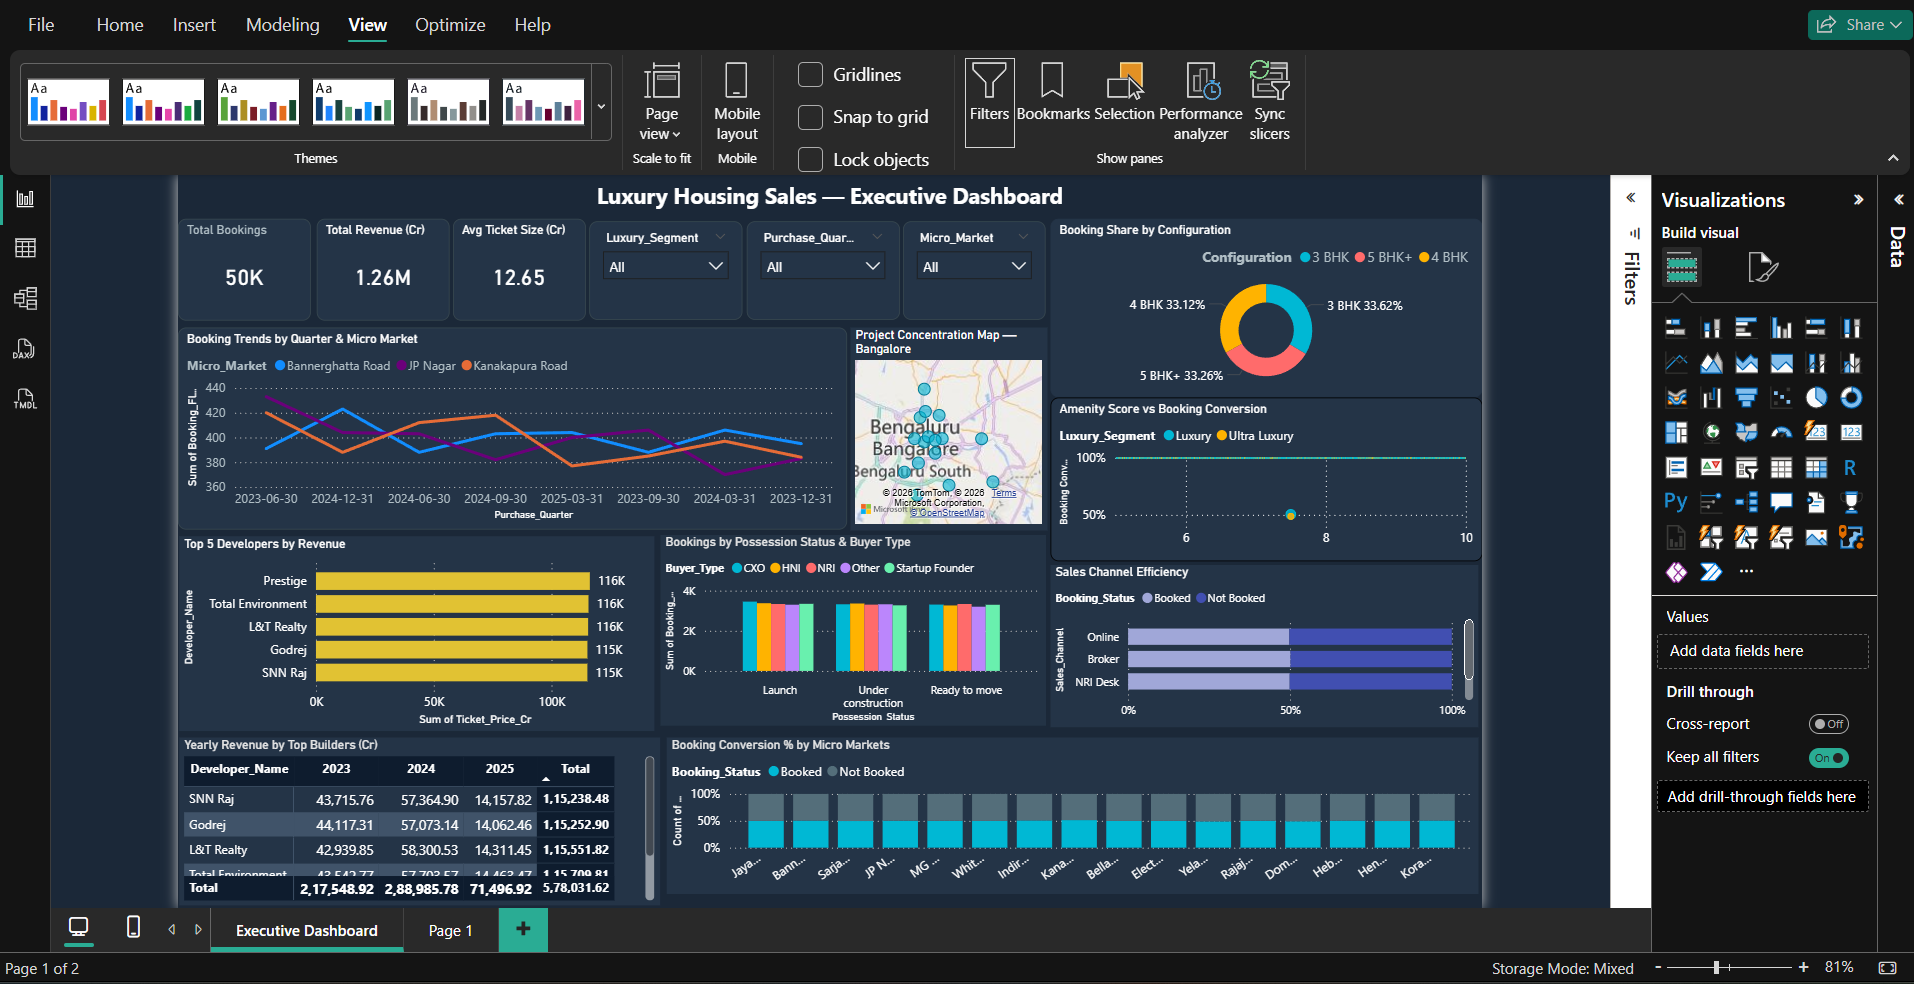

The page's visual inventory and layout, read from the dashboard file:
{"tool":"powerbi","page":{"name":"Executive Dashboard","canvas":[1280,720],"ordinal":0},"visuals":[{"type":"textbox","box":[0,0,1280,42.2],"z":0},{"type":"card","title":"Total Bookings","fields":{"Values":["Sum(public fact_sales.Booking_Flag)"]},"box":[0,42.6,130,100],"z":1000},{"type":"card","title":"Total Revenue (Cr)","fields":{"Values":["Sum(public fact_sales.Ticket_Price_Cr)"]},"box":[136,42.6,130.4,100.3],"z":2000},{"type":"card","title":"Avg Ticket Size (Cr)","fields":{"Values":["Avg(public fact_sales.Ticket_Price_Cr)"]},"box":[270,42.6,130,100.3],"z":3000},{"type":"slicer","title":"Luxury Segment","fields":{"Values":["public fact_sales.Luxury_Segment"]},"box":[404,45.1,150.5,97],"z":4000},{"type":"slicer","title":"Luxury Segment","fields":{"Values":["public fact_sales.Purchase_Quarter"]},"box":[558,45.1,150,97],"z":5000},{"type":"slicer","title":"Luxury Segment","fields":{"Values":["public dim_location.Micro_Market"]},"box":[712,45.1,140,97],"z":6000},{"type":"lineChart","title":"Booking Trends by Quarter & Micro Market","fields":{"Category":["public fact_sales.Purchase_Quarter"],"Y":["Sum(public fact_sales.Booking_Flag)"],"Series":["public dim_location.Micro_Market"]},"box":[0,150,657.1,198.1],"z":7000},{"type":"donutChart","title":"Booking Share by Configuration","fields":{"Category":["public dim_property.Configuration"],"Y":["Sum(public fact_sales.Booking_Flag)"]},"box":[856.4,42.6,423.8,175.5],"z":8000},{"type":"clusteredBarChart","title":"Top 5 Developers by Revenue","fields":{"Category":["public fact_sales.Developer_Name"],"Y":["Sum(public fact_sales.Ticket_Price_Cr)"]},"box":[1.3,354,466.5,191],"z":9000},{"type":"hundredPercentStackedBarChart","title":"Sales Channel Efficiency","fields":{"Category":["public dim_buyer.Sales_Channel"],"Y":["CountNonNull(public fact_sales.Property_ID)"],"Series":["public fact_sales.Booking_Status"]},"box":[856.4,383,420.1,159.2],"z":10000},{"type":"scatterChart","title":"Amenity Score vs Booking Conversion","fields":{"X":["public dim_property.Amenity_Score"],"Y":["public fact_sales.Booking Conversion Rate"],"Size":["CountNonNull(public fact_sales.Property_ID)"],"Series":["public fact_sales.Luxury_Segment"]},"box":[856.4,218.2,423.8,160.5],"z":11000},{"type":"clusteredColumnChart","title":"Bookings by Possession Status & Buyer Type","fields":{"Category":["public dim_property.Possession_Status"],"Y":["Sum(public fact_sales.Booking_Flag)"],"Series":["public dim_buyer.Buyer_Type"]},"box":[473.8,353.8,378.8,187.5],"z":12000},{"type":"map","title":"Project Concentration Map — Bangalore","fields":{"Size":["CountNonNull(public fact_sales.Property_ID)"],"Category":["public dim_location.Micro_Market_Bangalore"]},"box":[660,150,193.1,198.1],"z":13000},{"type":"pivotTable","title":"Yearly Revenue by Top Builders (Cr)","fields":{"Rows":["public fact_sales.Developer_Name"],"Columns":["public fact_sales.Year"],"Values":["Sum(public fact_sales.Ticket_Price_Cr)"]},"box":[1.7,551.7,471.7,165],"z":14000},{"type":"hundredPercentStackedColumnChart","title":"Booking Conversion % by Micro Markets","fields":{"Category":["public dim_location.Micro_Market"],"Y":["CountNonNull(public fact_sales.Property_ID)"],"Series":["public fact_sales.Booking_Status"]},"box":[480,551.7,796.7,153.3],"z":15000}]}

Visuals, with their boxes on the page's 1280x720 design canvas (x1, y1, x2, y2). These are canvas units, not pixel positions in the 1914x984 screenshot, which may show the page scaled, cropped or inside an application window:
textbox: (0,0,1280,42)
"Total Bookings" card: (0,43,130,143)
"Total Revenue (Cr)" card: (136,43,266,143)
"Avg Ticket Size (Cr)" card: (270,43,400,143)
"Luxury Segment" slicer: (404,45,554,142)
"Luxury Segment" slicer: (558,45,708,142)
"Luxury Segment" slicer: (712,45,852,142)
"Booking Trends by Quarter & Micro Market" lineChart: (0,150,657,348)
"Booking Share by Configuration" donutChart: (856,43,1280,218)
"Top 5 Developers by Revenue" clusteredBarChart: (1,354,468,545)
"Sales Channel Efficiency" hundredPercentStackedBarChart: (856,383,1276,542)
"Amenity Score vs Booking Conversion" scatterChart: (856,218,1280,379)
"Bookings by Possession Status & Buyer Type" clusteredColumnChart: (474,354,853,541)
"Project Concentration Map — Bangalore" map: (660,150,853,348)
"Yearly Revenue by Top Builders (Cr)" pivotTable: (2,552,473,717)
"Booking Conversion % by Micro Markets" hundredPercentStackedColumnChart: (480,552,1277,705)
